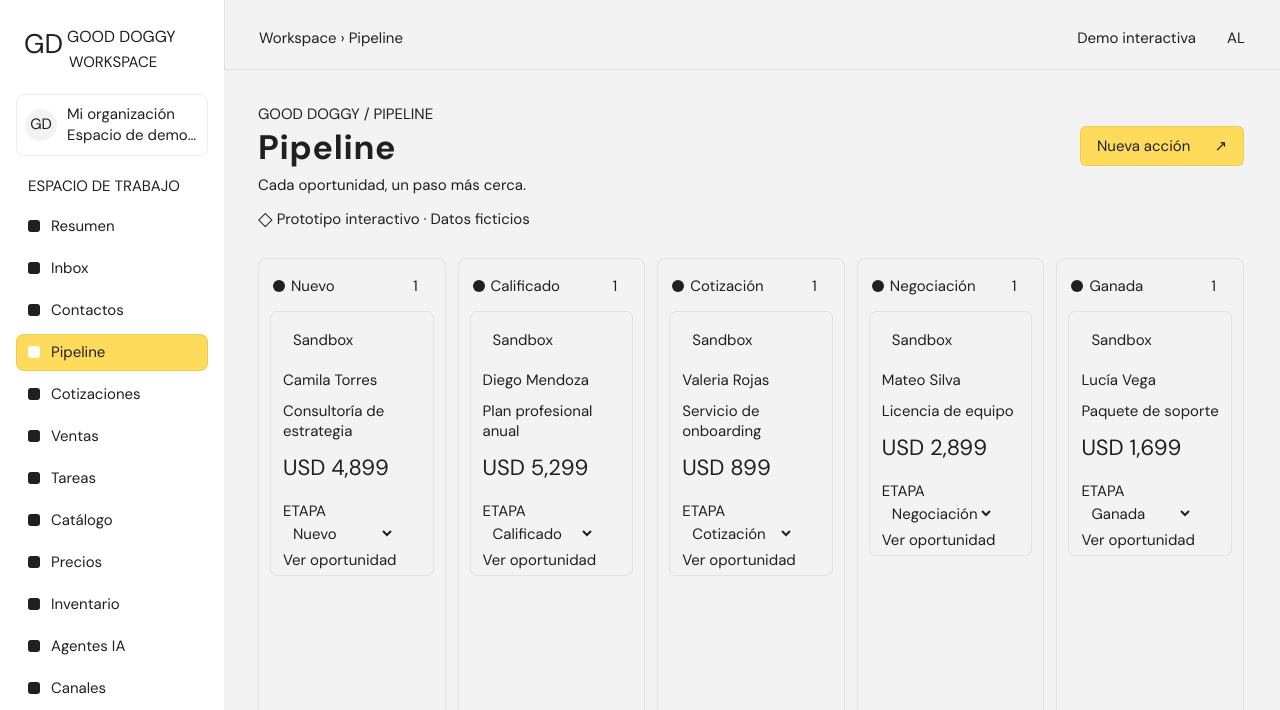
Test: Workspace de la demo › mueve una oportunidad de etapa con el selector y abre su detalle
Expected: the element named "Nuevo: 1 oportunidad" shows "Camila Torres", 283,370 -> 377,390
Step 1. Select "Ganada" in the dropdown named "ETAPA de Camila Torres" → [339, 534], box 283,521 -> 395,546
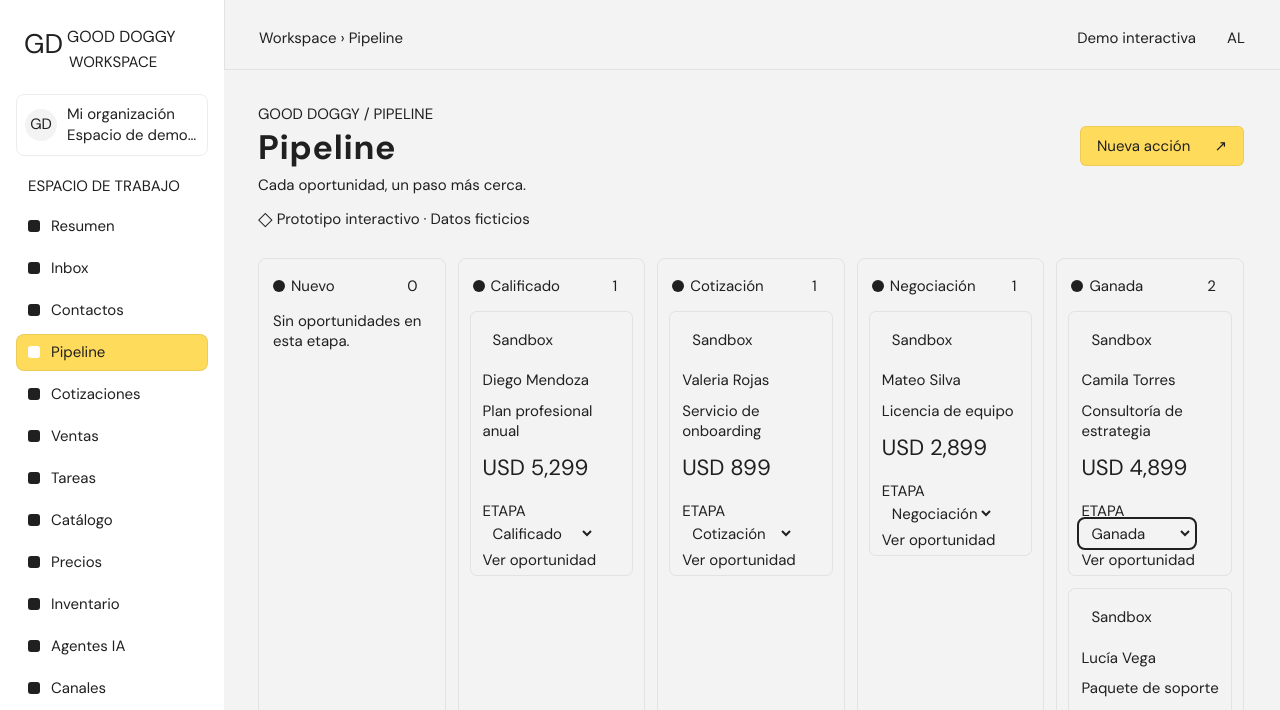
Expected: the element named "Nuevo: 0 oportunidades" shows "Sin oportunidades en esta etapa.", 273,311 -> 422,352
Expected: the element named "Ganada: 2 oportunidades" shows "Camila Torres", 1081,370 -> 1176,390
Step 2. Click the button named "Ver oportunidad de Camila Torres" → [1138, 560], box 1081,550 -> 1195,570
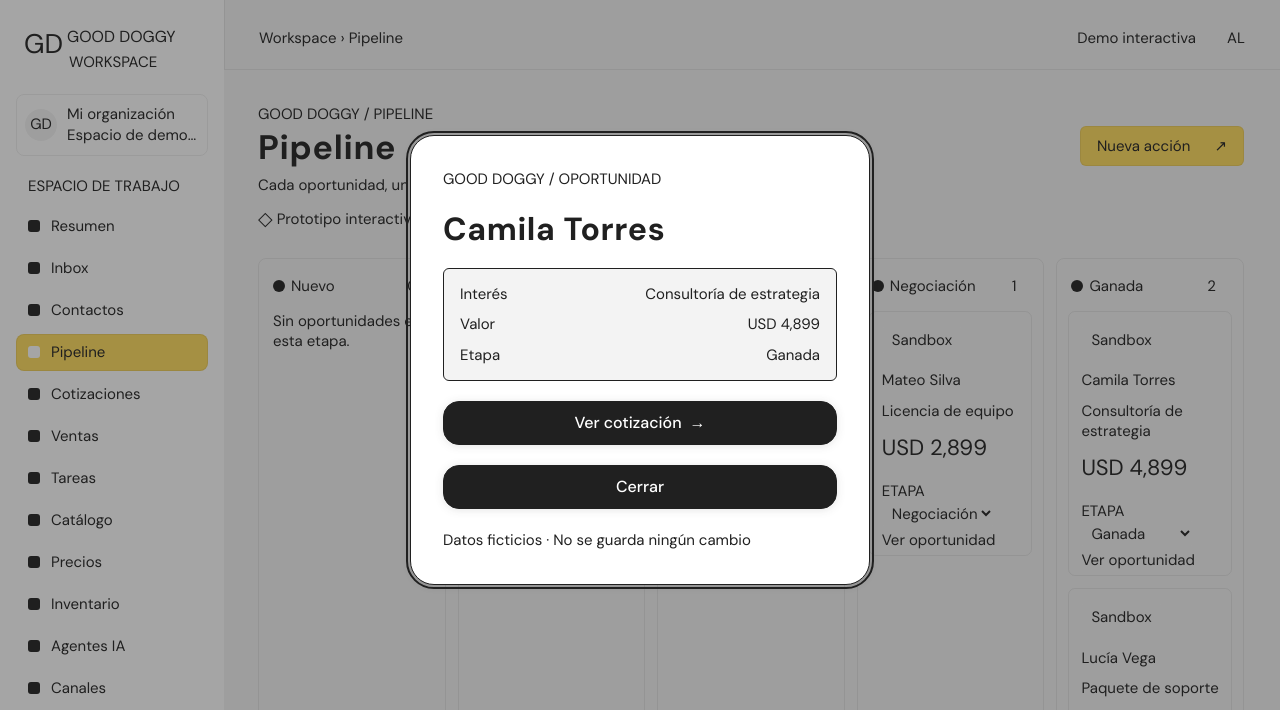
Expected: the dialog "Camila Torres" shows "Ganada", 766,345 -> 820,365
Expected: the dialog "Camila Torres" shows "USD 4,899", 748,314 -> 820,334
